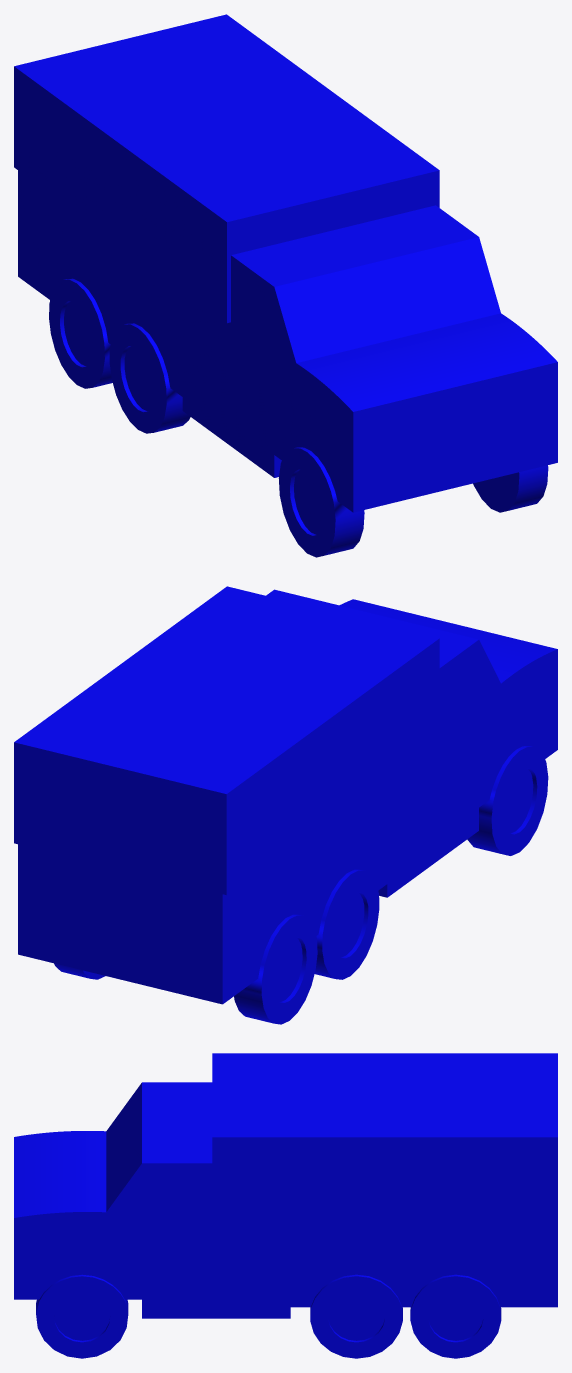
The model's file is Boardgame_Troop_Triple_Token_Blue_01.fbx.
3 views of the same model, one above another, from view 1: azimuth 30°, elevation 25°; view 2: azimuth 150°, elevation 25°; view 3: azimuth 270°, elevation 25° (orthographic). The views are drawn at different scales.
Parts seen in each view (by area): view 1: Model; view 2: Model; view 3: Model.
Boxes of the visible parts, box(x1,y1,x2,y2) form: Model: box(14, 14, 557, 557); Model: box(14, 586, 557, 1024); Model: box(14, 1053, 557, 1358).
Size of the model in its own units: 126 by 154 by 343.
